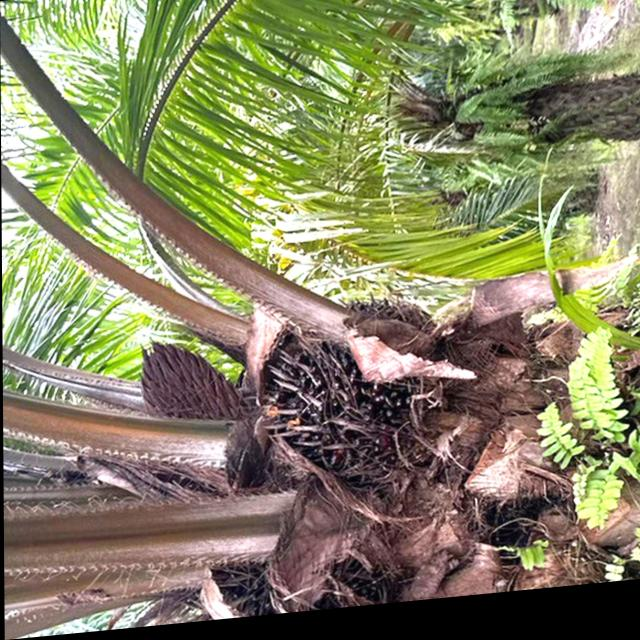ripe: (264, 330, 402, 475)
